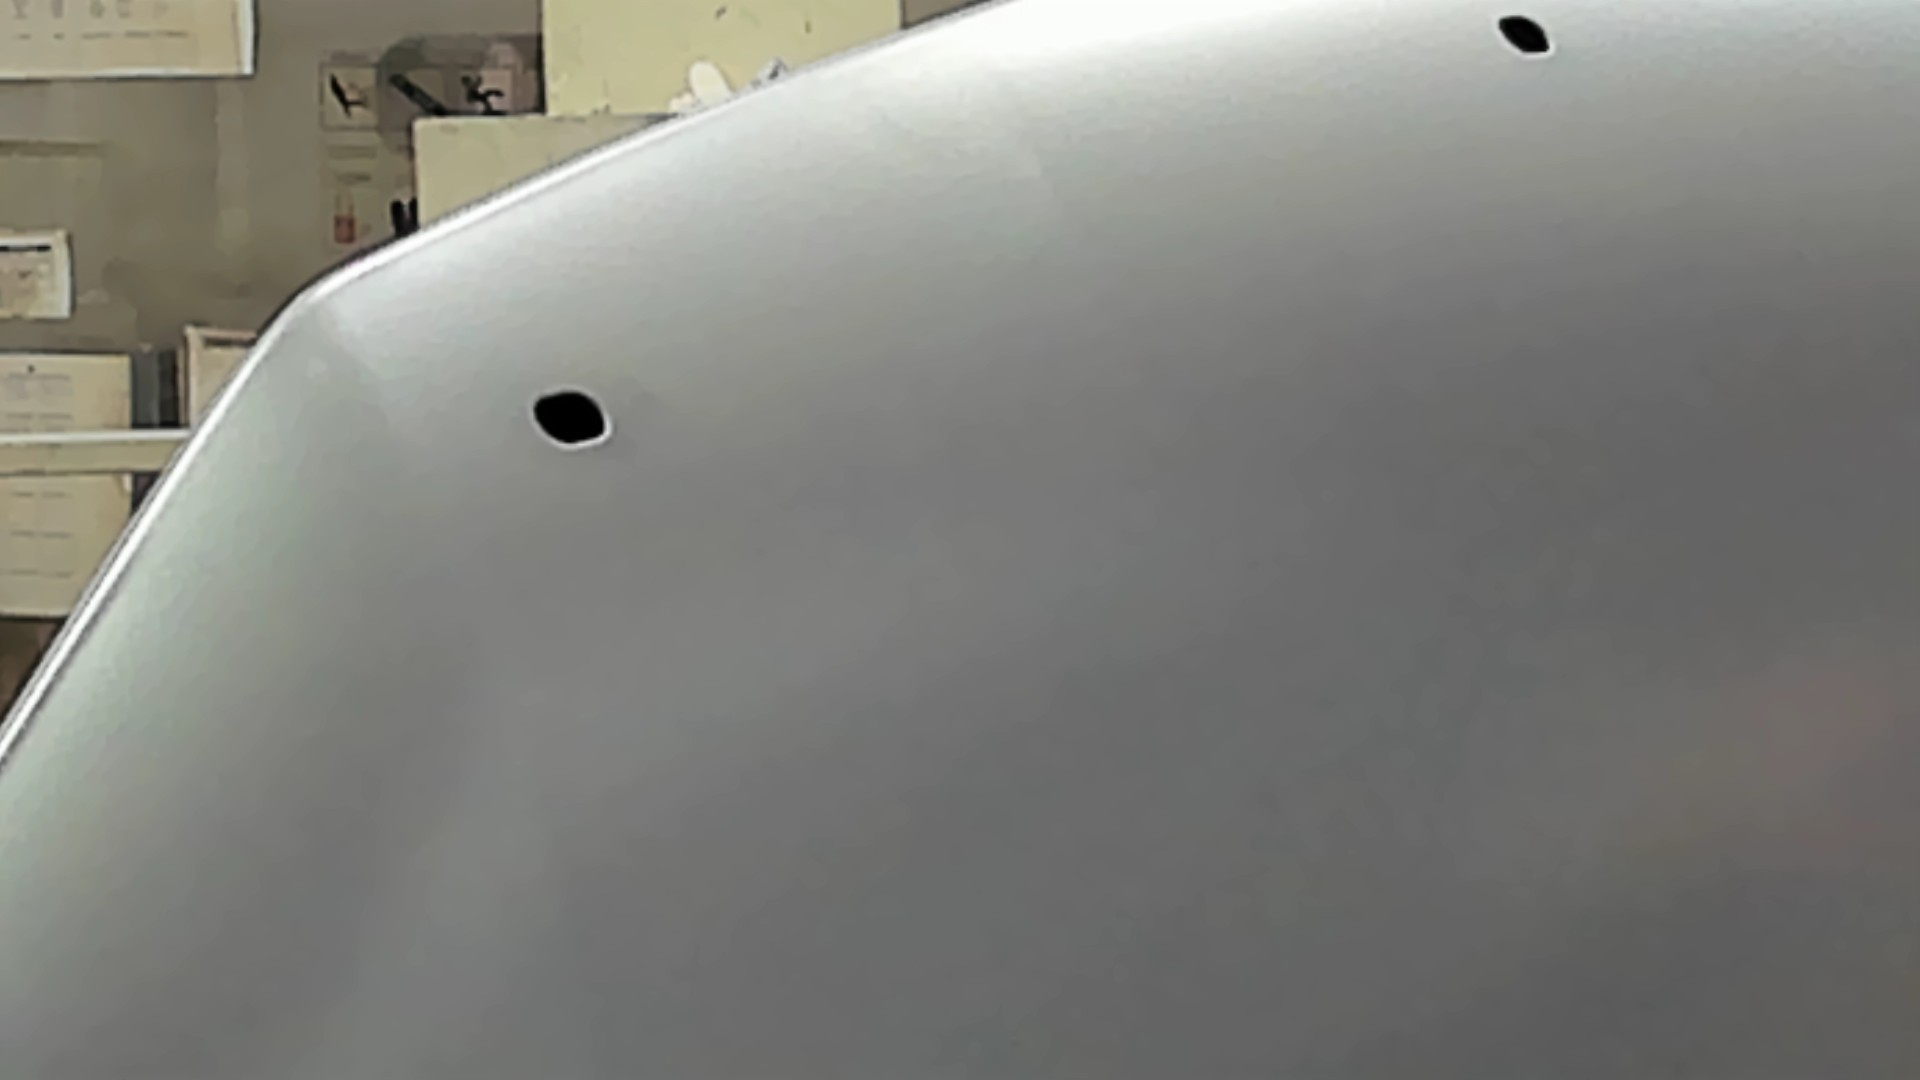amorfo: (524, 386, 621, 451), (1491, 9, 1557, 69)
